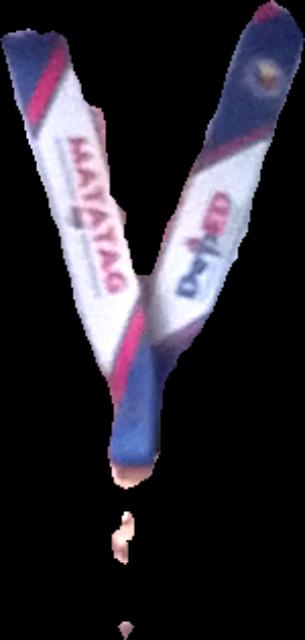id lace: (0, 0, 304, 489)
